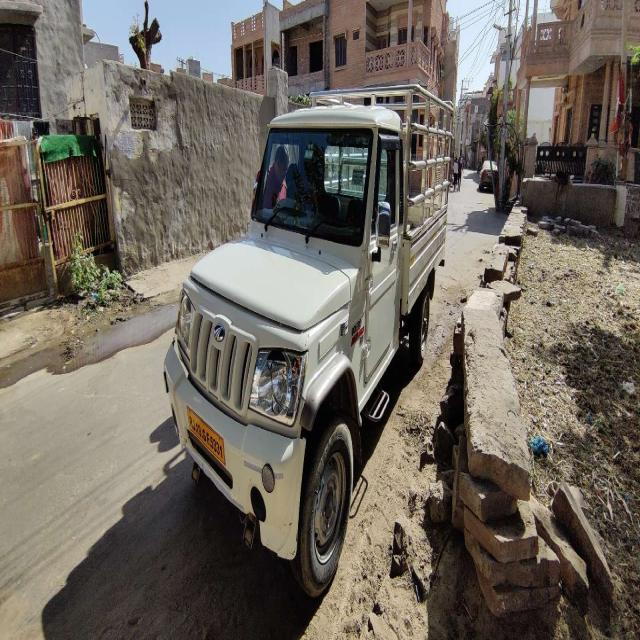light_vehicle: (166, 120, 446, 528)
